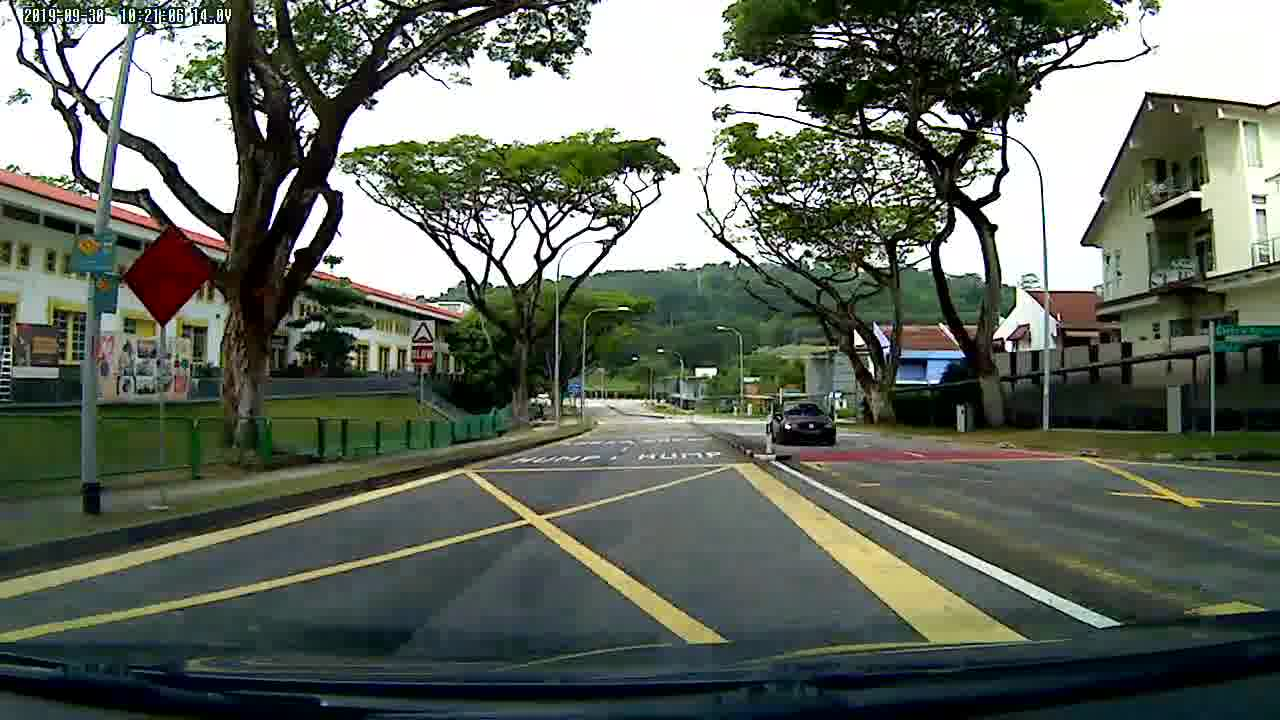car: (765, 398, 839, 448)
